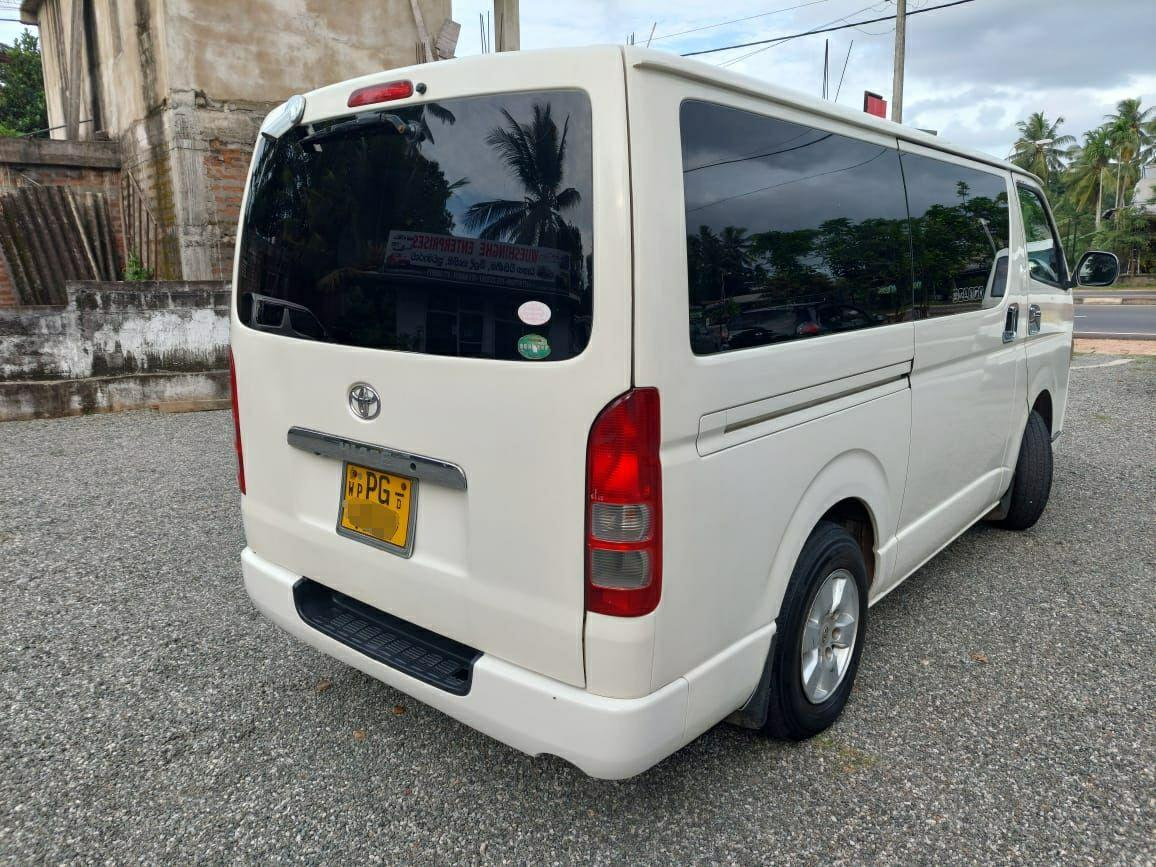van: (228, 40, 1124, 780)
